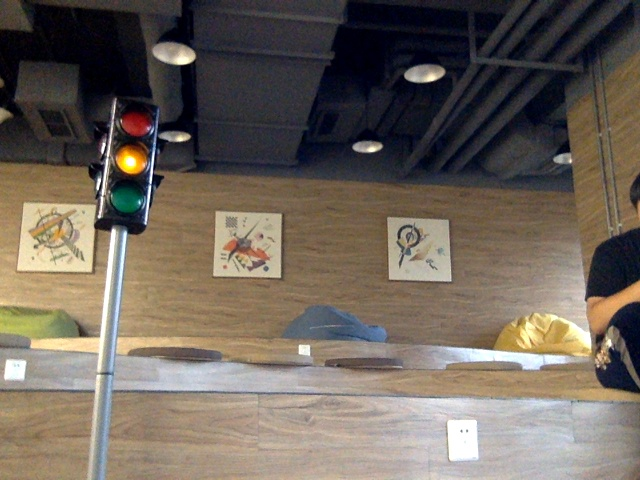yellow: (108, 103, 147, 217)
